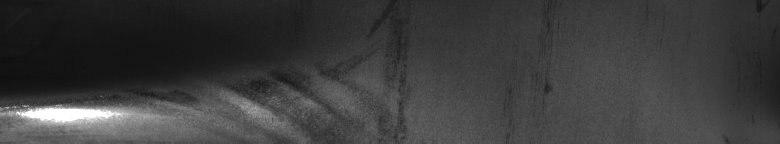ke: (4, 70, 408, 136)
